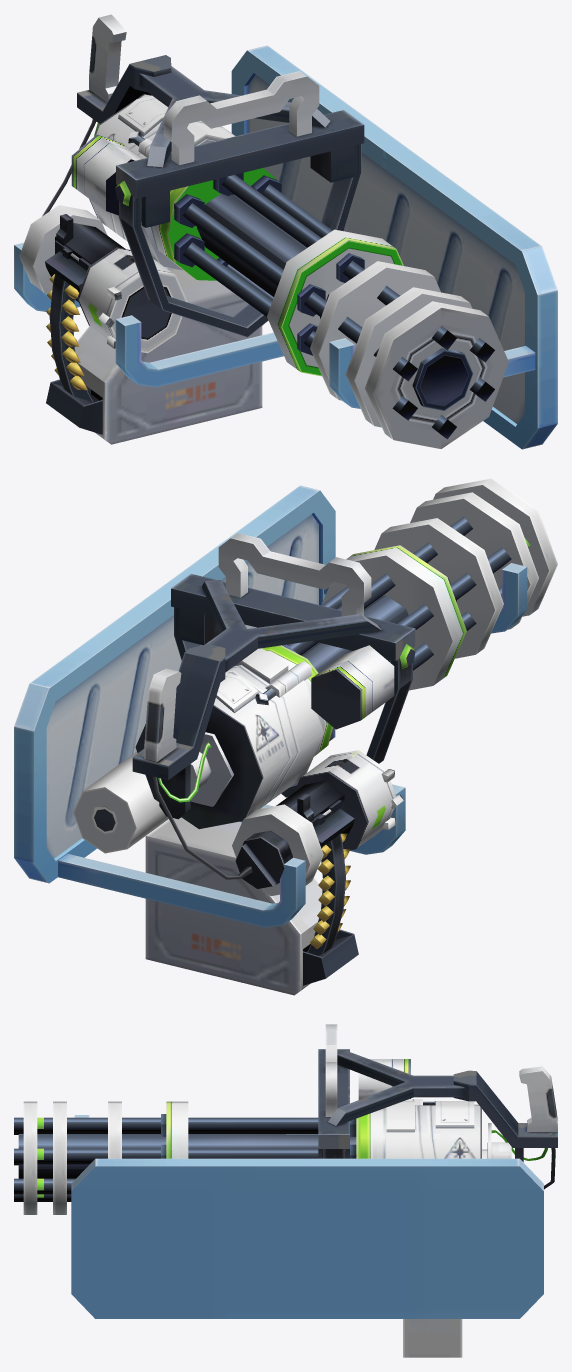
The model's file is my_abydosclassroom_01_wallacc_03.glb.
3 views of the same model, one above another, from view 1: azimuth 30°, elevation 25°; view 2: azimuth 150°, elevation 25°; view 3: azimuth 270°, elevation 25° (orthographic). The views are drawn at different scales.
Parts seen in each view (by area): view 1: my_abydosclassroom_01_wallacc_03; view 2: my_abydosclassroom_01_wallacc_03; view 3: my_abydosclassroom_01_wallacc_03.
Part boxes in pixels (box(x1,y1,x2,y2)): my_abydosclassroom_01_wallacc_03: box(14, 14, 557, 449); my_abydosclassroom_01_wallacc_03: box(14, 478, 557, 995); my_abydosclassroom_01_wallacc_03: box(14, 1024, 557, 1357).
Bounding box in the file's own units: 0.00301 × 0.00392 × 0.00678.
1 material, 1 textured.
